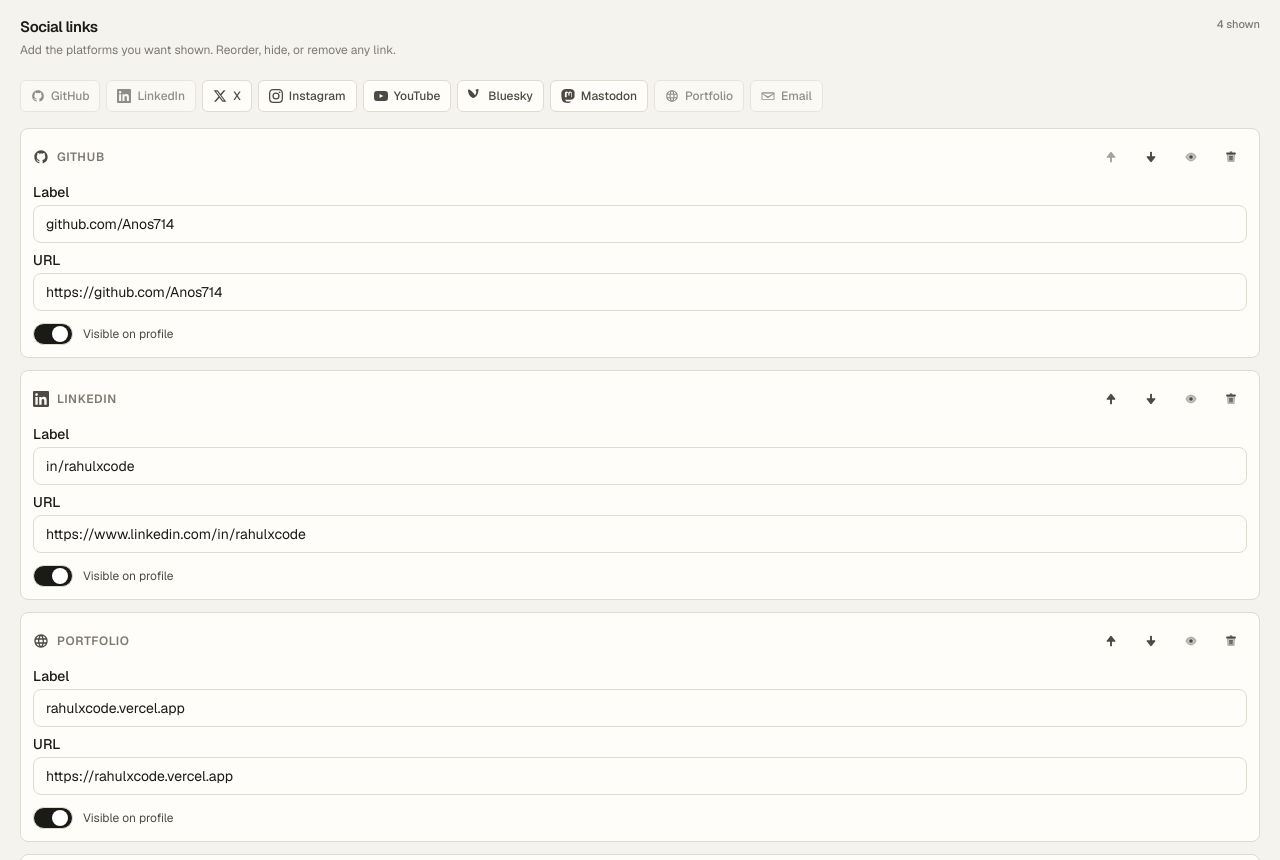
SocialLinksEditor › counts only visible links with a URL in the badge
Click the button named "Add X link": (227,96) [202,80,252,112]
(page scrolled)
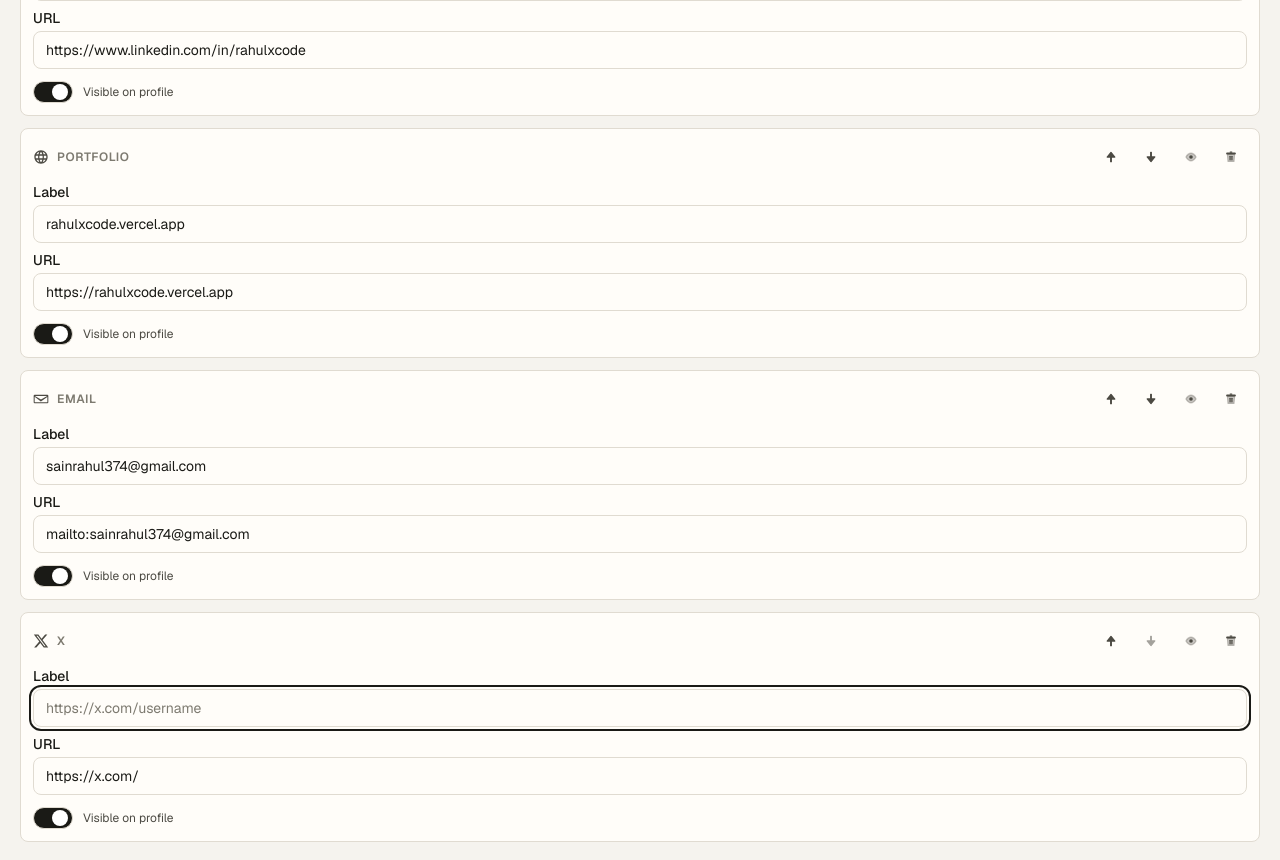
Click the button named "Hide X": (1191,641) [1175,625,1207,657]
(page scrolled)
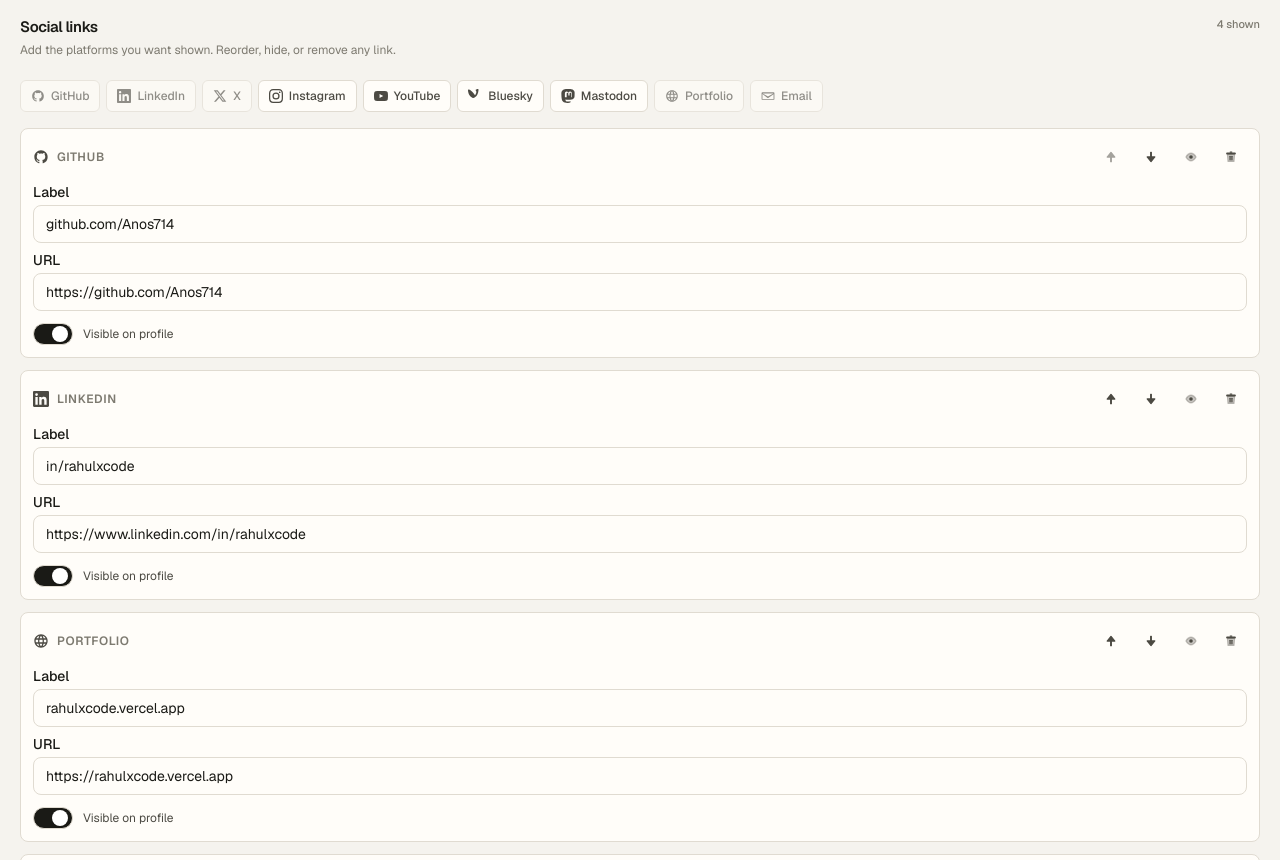
Check: the text "4 shown" is shown, box [1217,16,1260,32]
